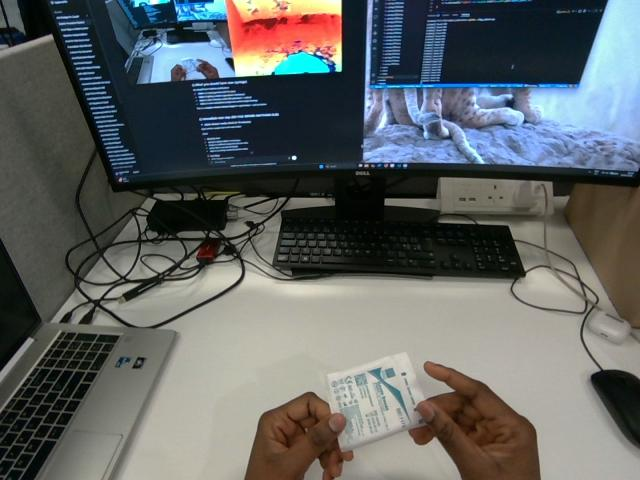gauze: (327, 353, 423, 450)
